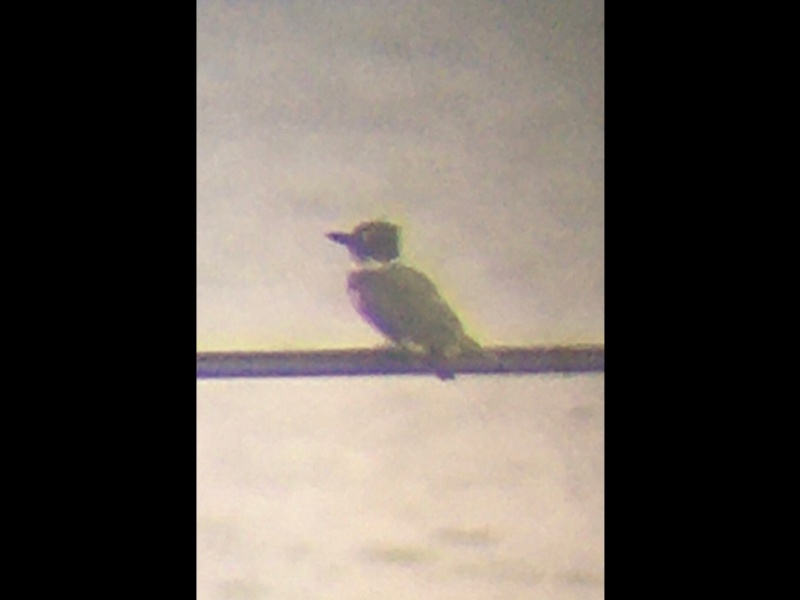kingfisher: (324, 215, 491, 372)
